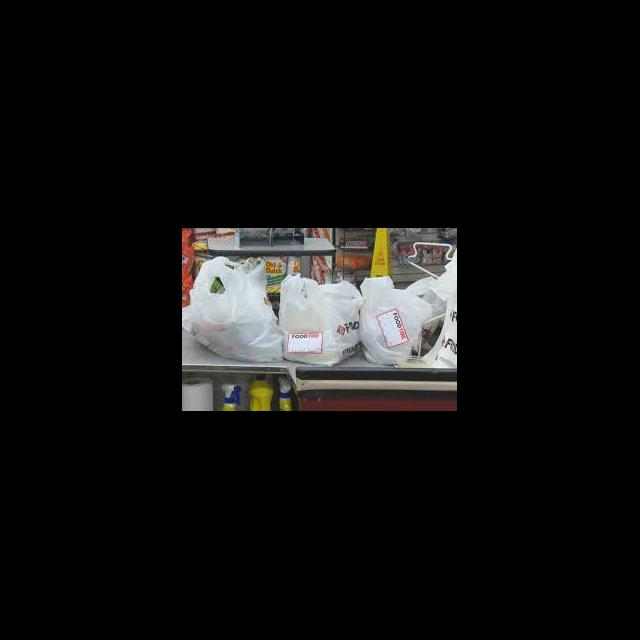plastic: (182, 255, 282, 362), (278, 274, 362, 366), (358, 276, 438, 364), (248, 374, 272, 411), (218, 382, 238, 410), (278, 376, 292, 411), (222, 382, 240, 403), (278, 377, 292, 398), (253, 372, 264, 380)
